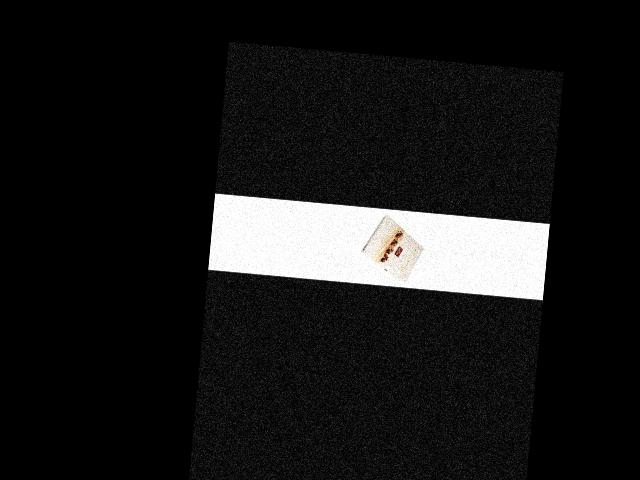chocolate: (357, 207, 425, 284)
